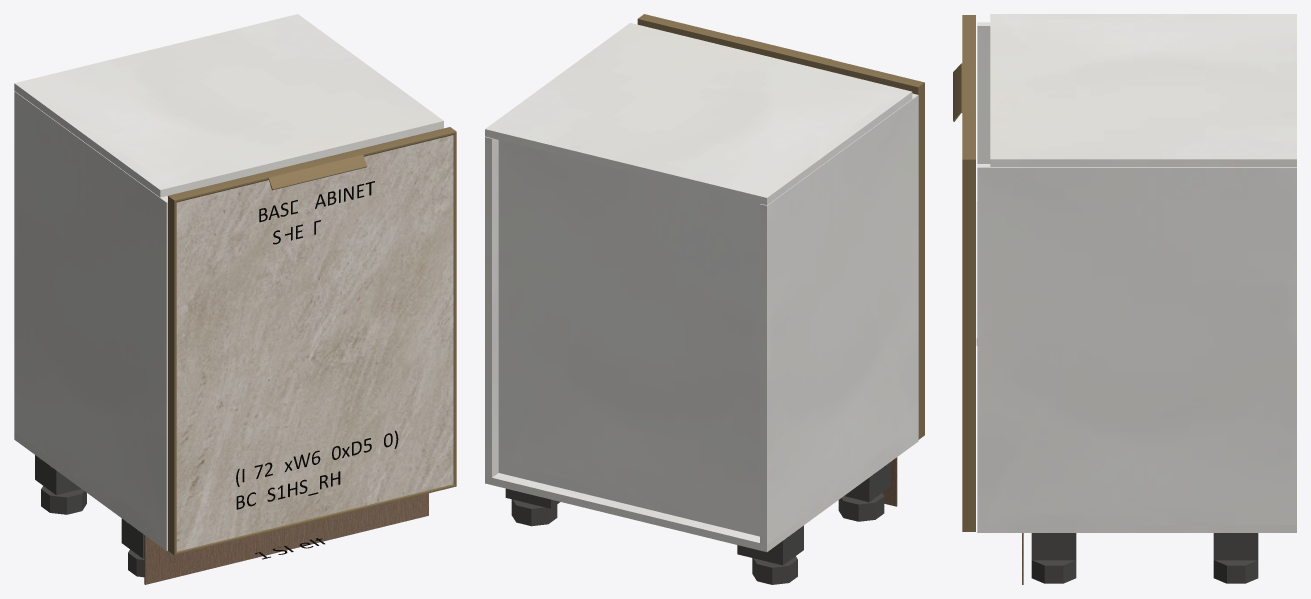
The model's file is BC-SH-TTS-ST-1SX-RHS-XXX-600-720-560-15.glb.
3 renders of one model, left to right at view 1: azimuth 30°, elevation 25°; view 2: azimuth 150°, elevation 25°; view 3: azimuth 270°, elevation 25°, orthographic. The views are drawn at different scales.
Visible parts, largest first — view 1: Object_node_12, TP_node, TP_node_1, Object_node_14, Extrusion_node_4, ExtrSplGeo, Extrusion_node, Extrusion_node_2, 2D text_node, TP, Extrusion_node_3, Foot (+3 smaller); view 2: TP_node_3, TP_node, TP_node_1, TP, TP_node_0, Extrusion_node_4, Extrusion_node, ExtrSplGeo, Plate, Foot, Foot_node_0, Foot_node (+1 smaller); view 3: TP_node_0, TP_node_1, Extrusion_node_2, TP, TP_node, Extrusion_node, Plate_node, Plate_node_1, ExtrSplGeo, Foot_node, Foot_node_1.
Part boxes in pixels (left/top/right/bottom): Object_node_12: left=176, top=135, right=453, bottom=551; TP_node: left=14, top=91, right=167, bottom=543; TP_node_1: left=14, top=14, right=443, bottom=197; Object_node_14: left=144, top=493, right=428, bottom=584; Extrusion_node_4: left=168, top=196, right=176, bottom=555; ExtrSplGeo: left=262, top=150, right=367, bottom=190; Extrusion_node: left=168, top=127, right=456, bottom=202; Extrusion_node_2: left=453, top=132, right=456, bottom=485; 2D text_node: left=236, top=430, right=398, bottom=509; TP: left=14, top=432, right=167, bottom=550; Extrusion_node_3: left=175, top=484, right=456, bottom=554; Foot: left=41, top=486, right=86, bottom=514; TP_node_3: left=498, top=140, right=760, bottom=536; TP_node: left=760, top=93, right=918, bottom=544; TP_node_1: left=485, top=23, right=912, bottom=205; TP: left=485, top=434, right=918, bottom=551; TP_node_0: left=485, top=136, right=498, bottom=477; Extrusion_node_4: left=912, top=83, right=924, bottom=439; Extrusion_node: left=638, top=14, right=924, bottom=91; ExtrSplGeo: left=731, top=36, right=831, bottom=70; Plate: left=737, top=525, right=803, bottom=565; Foot: left=752, top=556, right=797, bottom=584; Foot_node_0: left=838, top=493, right=884, bottom=521; Foot_node: left=511, top=499, right=557, bottom=526; TP_node_0: left=977, top=164, right=1296, bottom=525; TP_node_1: left=990, top=14, right=1296, bottom=166; Extrusion_node_2: left=962, top=159, right=975, bottom=531; TP: left=977, top=525, right=1296, bottom=532; TP_node: left=977, top=22, right=990, bottom=163; Extrusion_node: left=962, top=15, right=975, bottom=159; Plate_node: left=1213, top=533, right=1258, bottom=560; Plate_node_1: left=1031, top=533, right=1076, bottom=560; ExtrSplGeo: left=953, top=63, right=975, bottom=121; Foot_node: left=1213, top=560, right=1258, bottom=583; Foot_node_1: left=1031, top=560, right=1076, bottom=583.
Size of what is drawn, in the model's own units: 0.6 by 0.82 by 0.6.
Materials: 6 (3 with a texture image).
